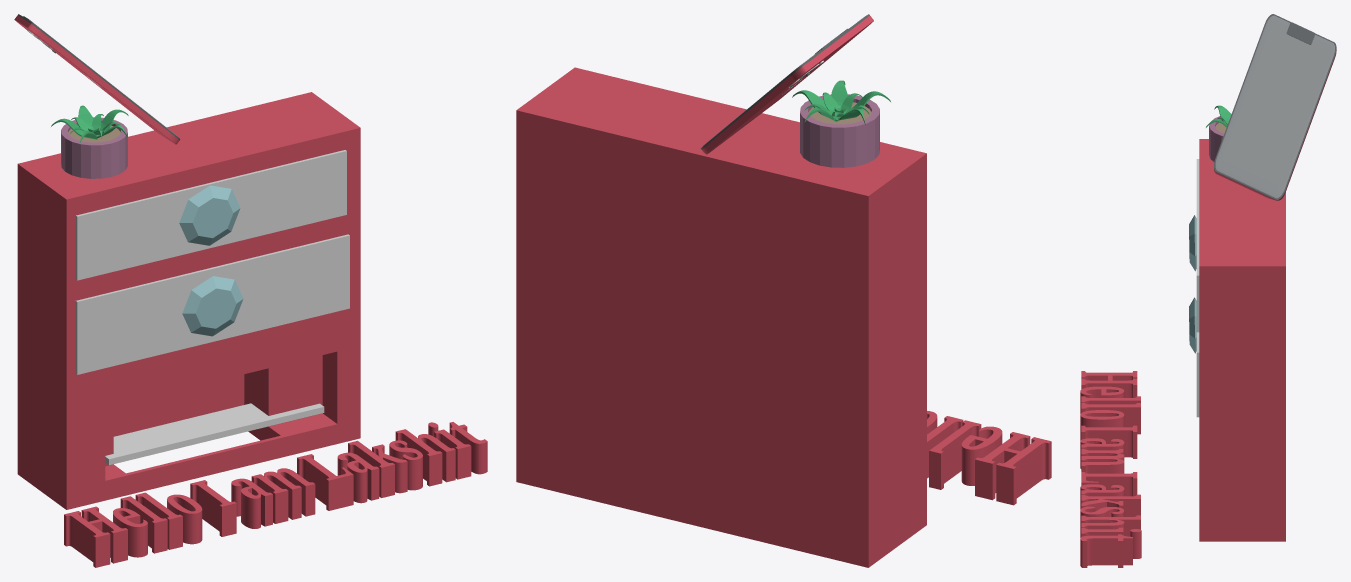
Rendered from Project 149.glb.
The picture shows the model from 3 angles, left to right: view 1: azimuth 30°, elevation 25°; view 2: azimuth 150°, elevation 25°; view 3: azimuth 270°, elevation 25°; orthographic projection. The views are drawn at different scales.
Visible parts, largest first — view 1: Mesh_Mesh_head_geo.001_lambert2SG.001; view 2: Mesh_Mesh_head_geo.001_lambert2SG.001; view 3: Mesh_Mesh_head_geo.001_lambert2SG.001.
Boxes of the visible parts, <box> form: Mesh_Mesh_head_geo.001_lambert2SG.001: <box>14,14,487,567</box>; Mesh_Mesh_head_geo.001_lambert2SG.001: <box>516,14,1051,567</box>; Mesh_Mesh_head_geo.001_lambert2SG.001: <box>1080,14,1336,567</box>.
Bounding box in the file's own units: 135 × 149 × 86.
